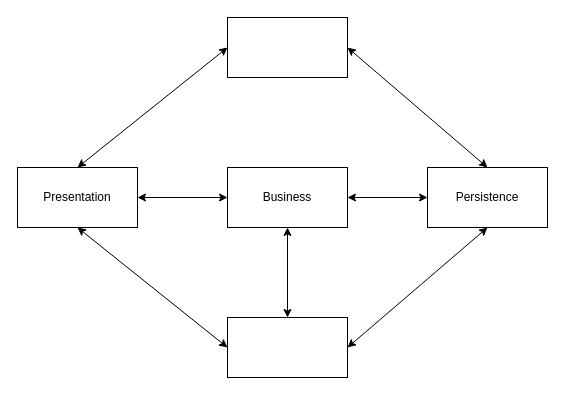
The diagram is 565 pixels wide and 395 high, and some of its shapes have lost their labels. The centre of each missing label's shape, as x and y in pixels:
"Application" belongs at (x=287, y=47).
"Objects" belongs at (x=287, y=347).
